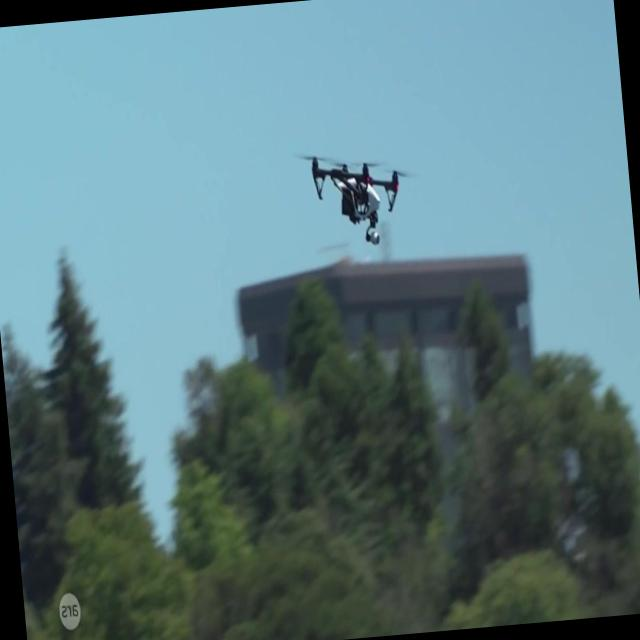drone: (300, 142, 410, 254)
